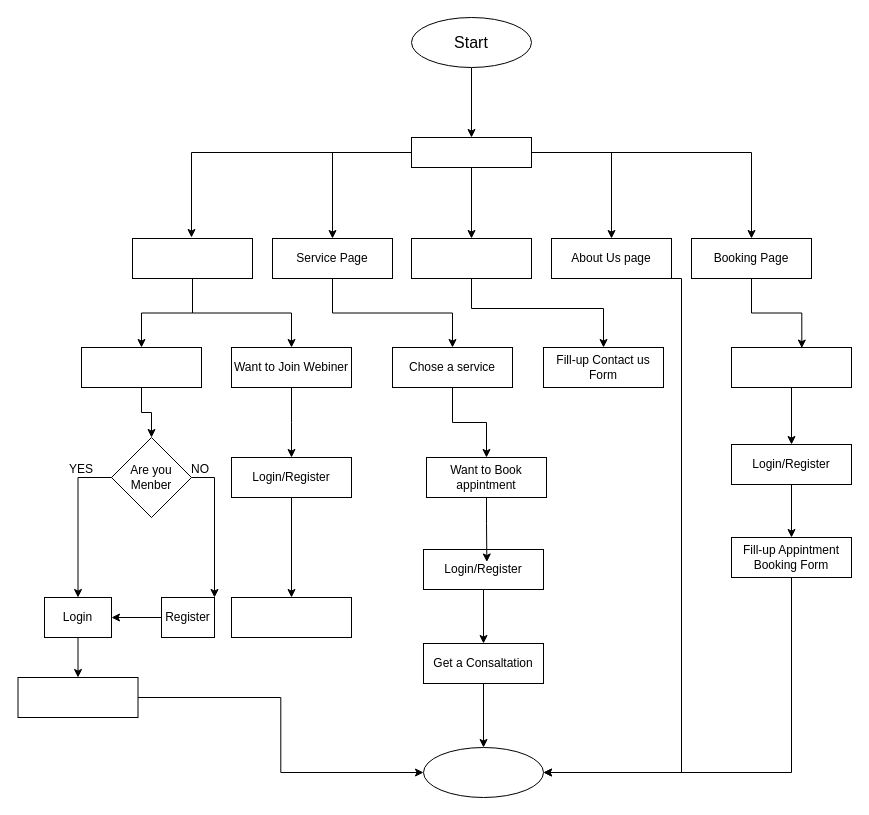
Image size: 869x815. Some labels were removed from this diagram. Each missing label, with the centre of its shape:
Contact Page: the point at 471,258
Download a Resource: the point at 77,697
END: the point at 483,772
Home Page: the point at 471,152
Join Webiner: the point at 291,617
Resource Page: the point at 192,258
want to book an appointment: the point at 791,367
want to Download a Resource: the point at 141,367
